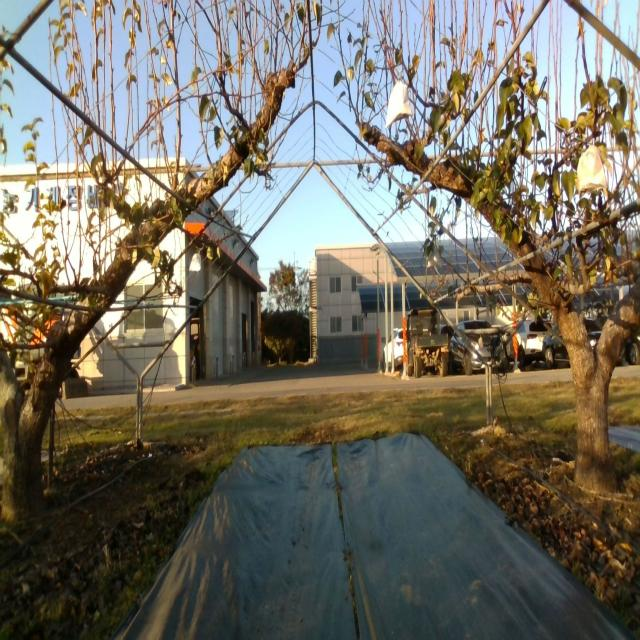pearbags: (576, 143, 608, 200), (385, 70, 413, 130), (426, 247, 442, 269), (189, 251, 201, 272)
